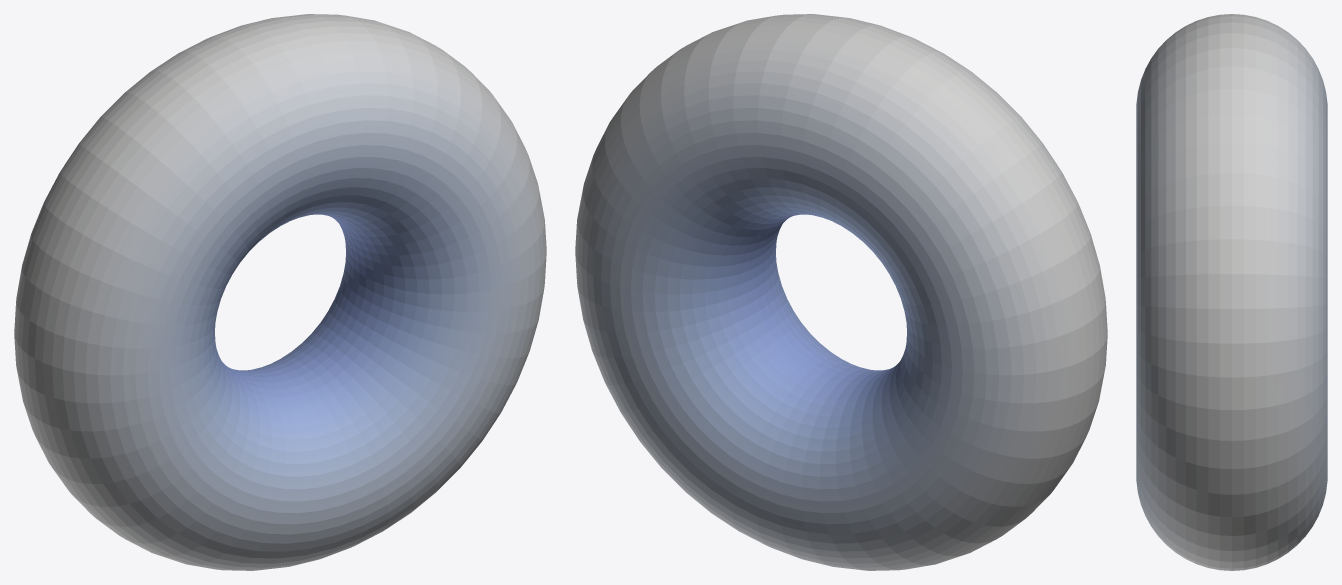
The picture shows the model from 3 angles, left to right: view 1: azimuth 30°, elevation 25°; view 2: azimuth 150°, elevation 25°; view 3: azimuth 270°, elevation 25°; orthographic projection. The views are drawn at different scales.
Visible parts, largest first — view 1: world; view 2: world; view 3: world.
Part boxes in pixels (bbox=[...]): world: bbox=[14, 14, 546, 570]; world: bbox=[575, 14, 1107, 570]; world: bbox=[1136, 14, 1327, 570].
Bounding box in the file's own units: 21.33 × 21.29 × 7.32.
